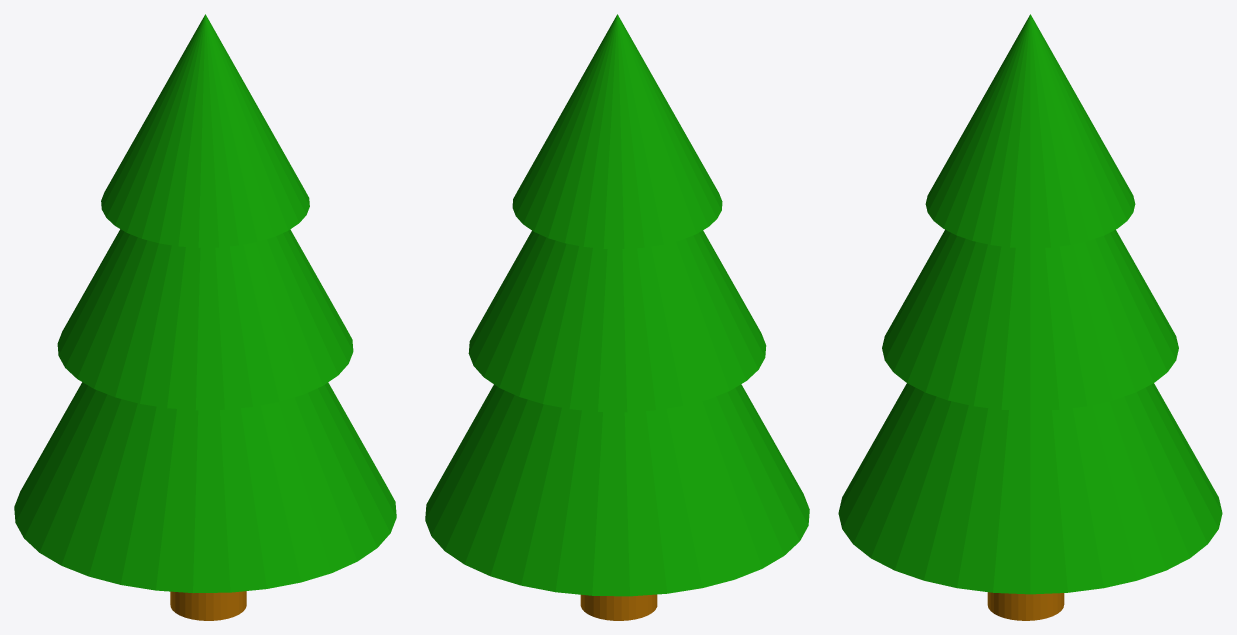
The model's file is tree1.gltf.
The picture shows the model from 3 angles, left to right: view 1: azimuth 30°, elevation 25°; view 2: azimuth 150°, elevation 25°; view 3: azimuth 270°, elevation 25°; orthographic projection.
Parts seen in each view (by area): view 1: Cone_003, Cone_002, Cone_001, Cylinder.001; view 2: Cone_003, Cone_002, Cone_001, Cylinder.001; view 3: Cone_003, Cone_002, Cone_001, Cylinder.001.
Boxes of the visible parts, x1,y1,x2,y2 form: Cone_003: [14, 382, 396, 593]; Cone_002: [57, 229, 353, 410]; Cone_001: [101, 14, 309, 247]; Cylinder.001: [170, 591, 246, 620]; Cone_003: [425, 384, 809, 596]; Cone_002: [468, 230, 766, 412]; Cone_001: [512, 14, 722, 248]; Cylinder.001: [580, 594, 657, 620]; Cone_003: [838, 383, 1222, 594]; Cone_002: [882, 229, 1178, 410]; Cone_001: [925, 14, 1135, 248]; Cylinder.001: [987, 592, 1064, 620].
Size of the model in its own units: 1.03 by 1.75 by 1.03.
